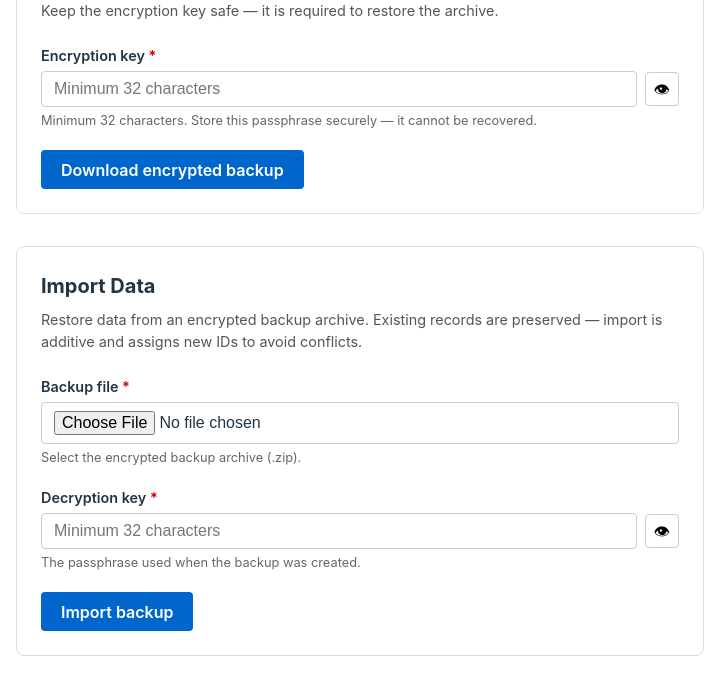
Test: ImportExportPage › Import form validation › shows error when decryption key is empty
(page scrolled)
Click the button "Import backup".
click(117, 612)  # box [41,592,193,631]
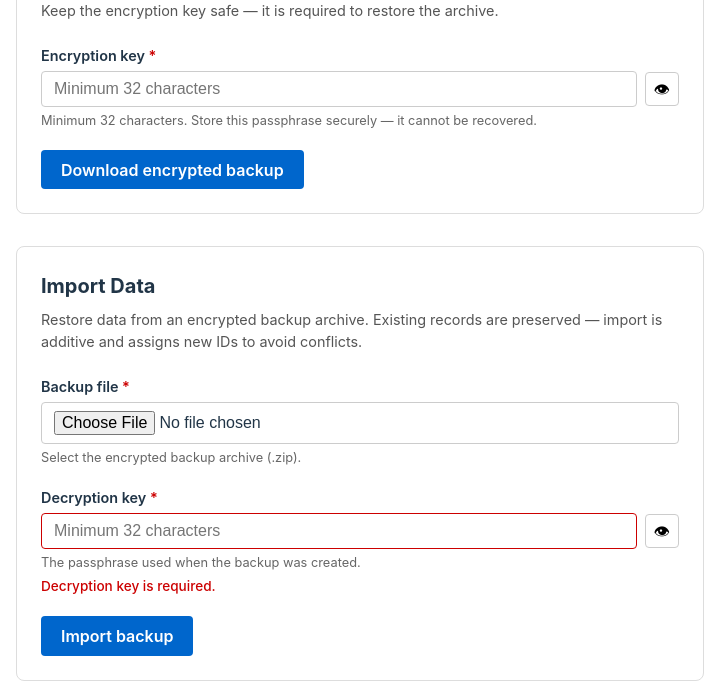
Expected: the text "Decryption key is required." is shown, [41,578,216,594]
